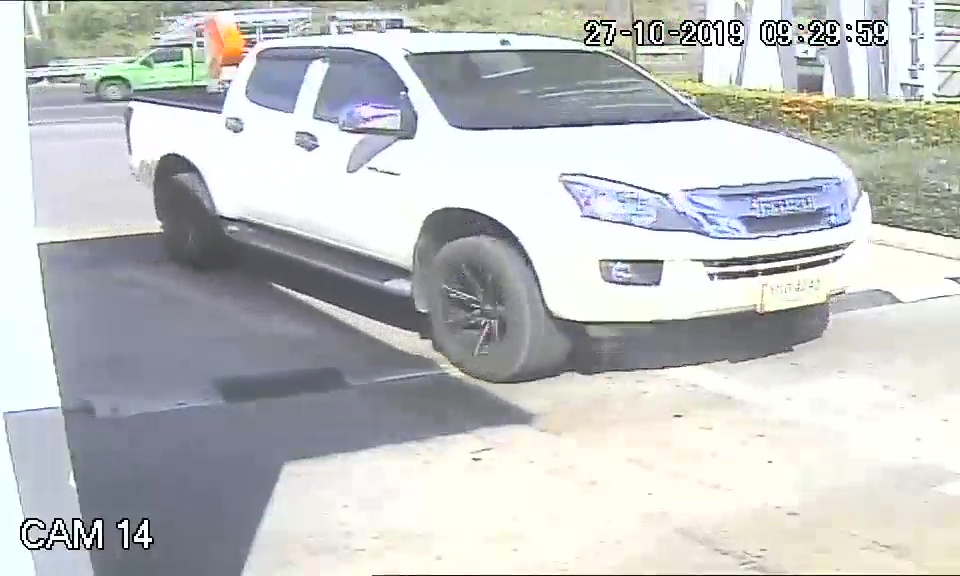pickup: (124, 32, 881, 385)
